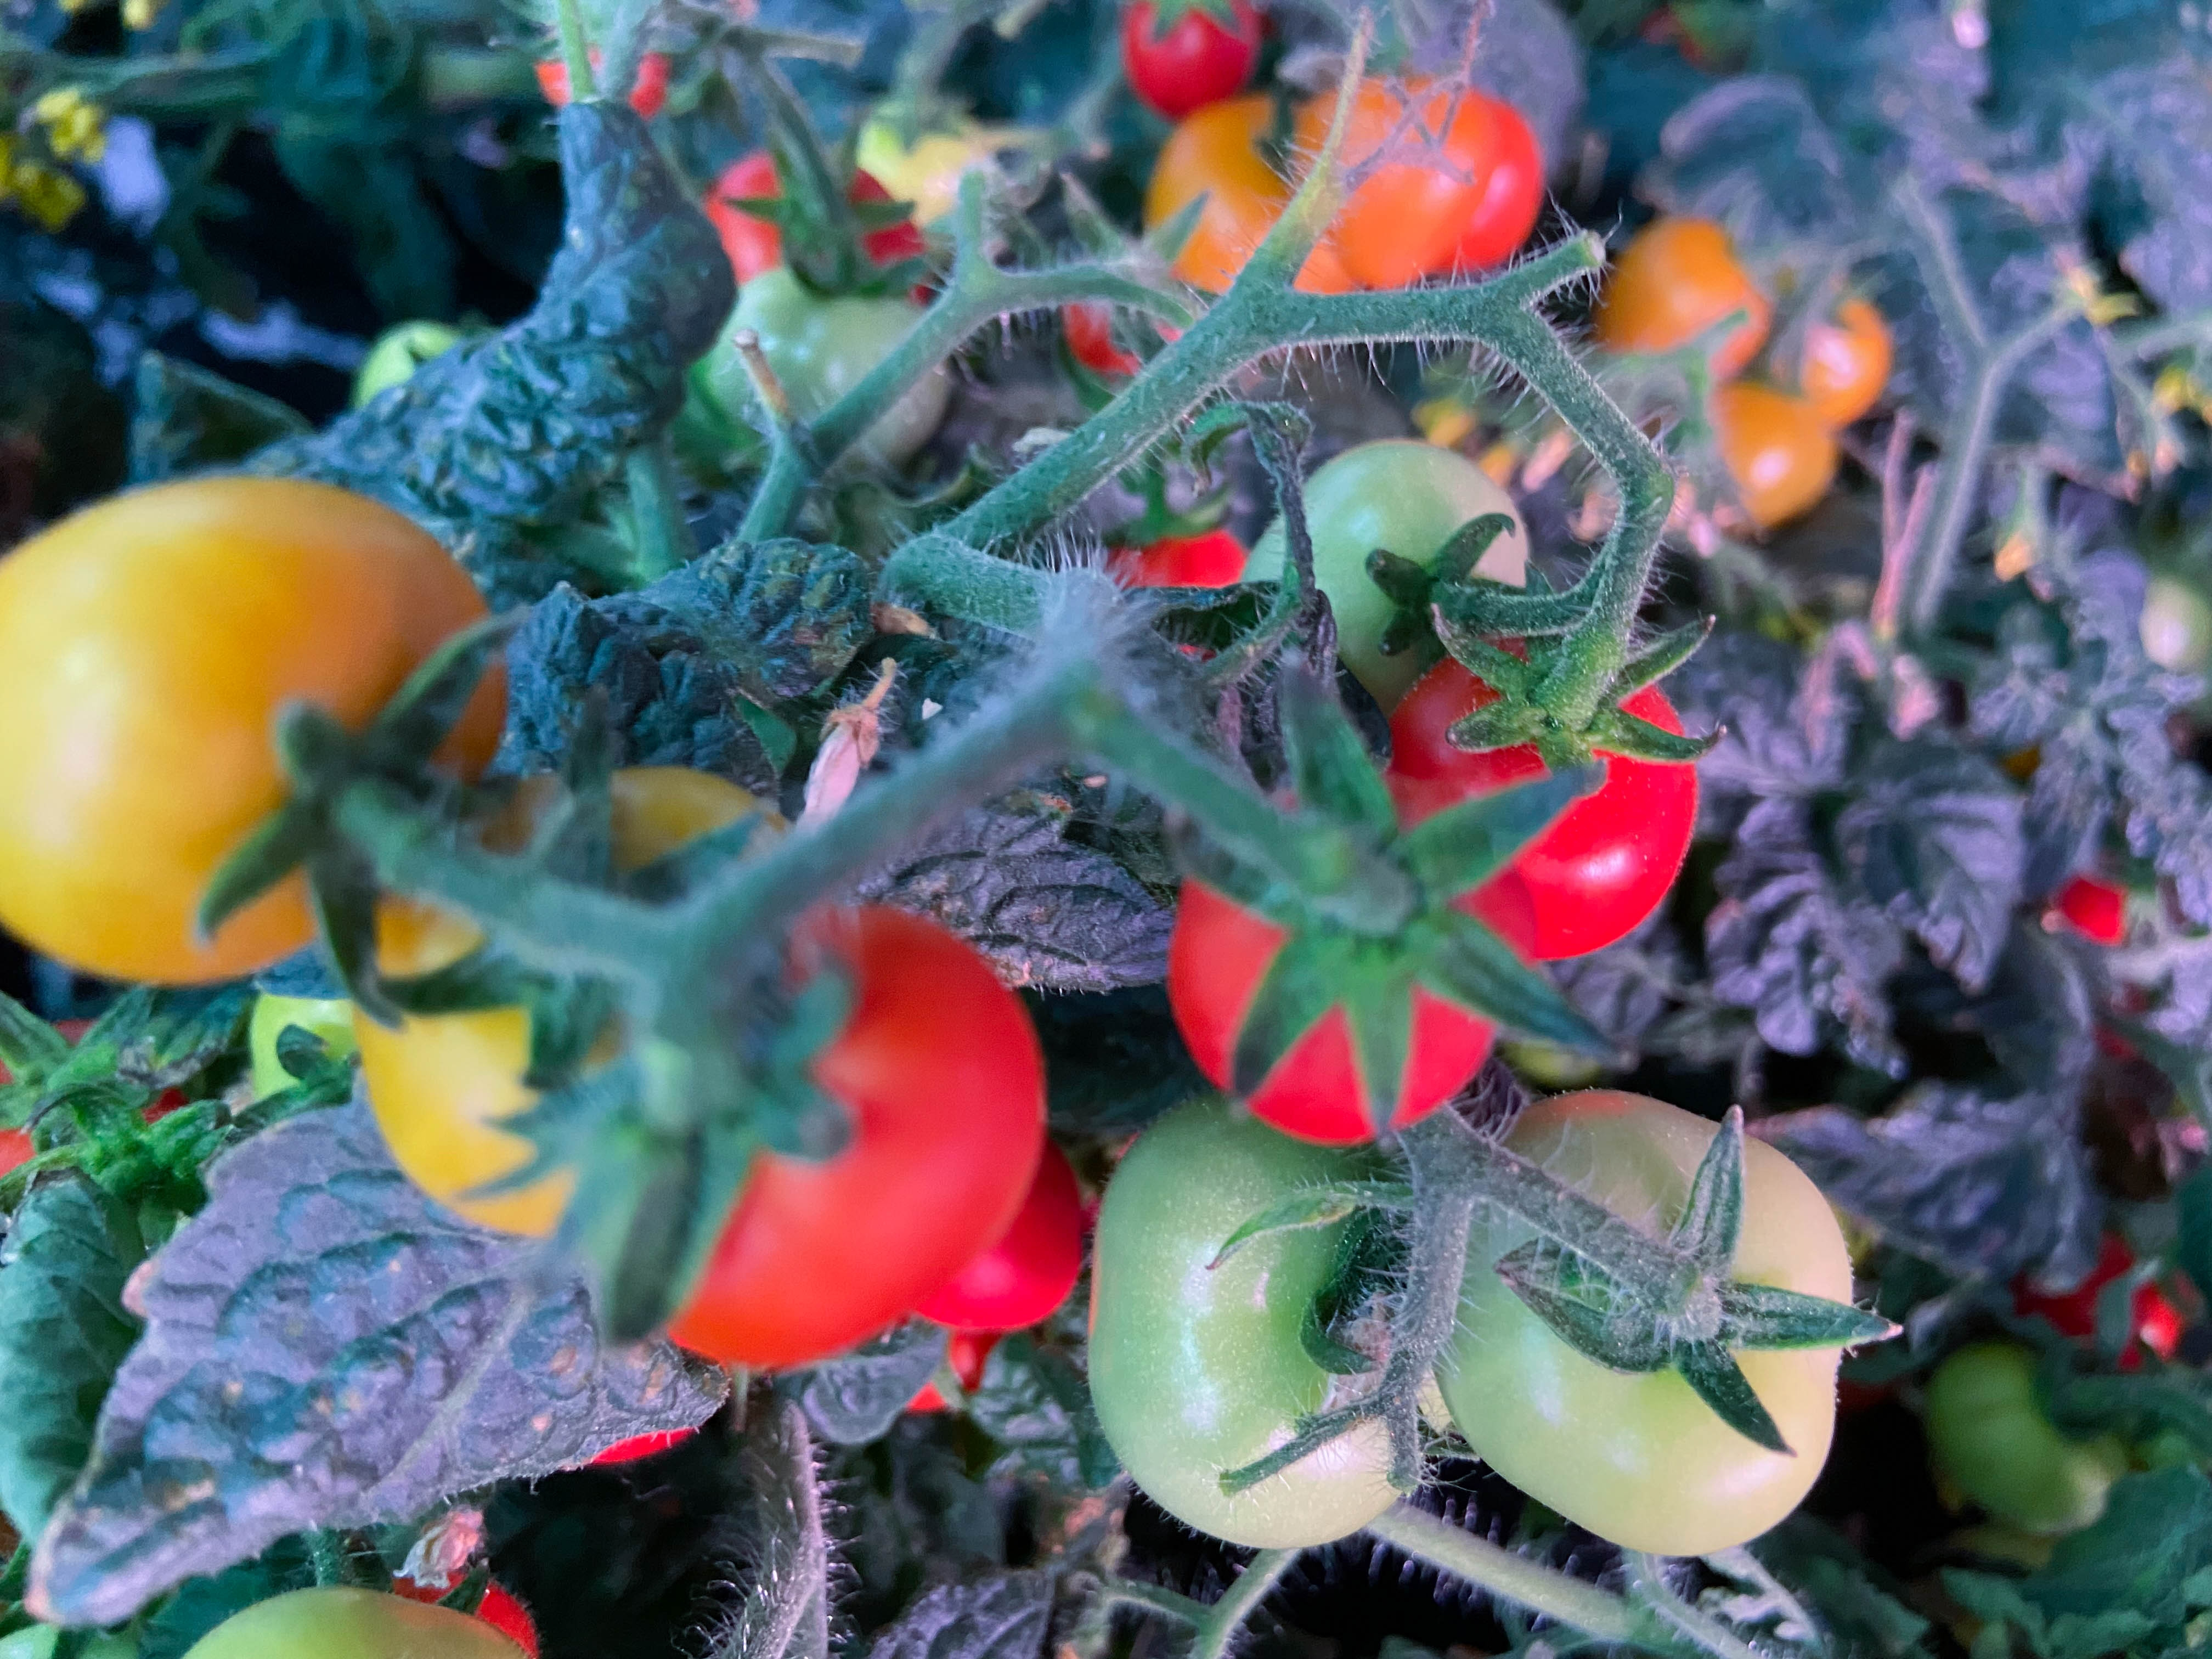green: (1430, 1091, 1858, 1568), (1082, 1101, 1439, 1558), (1245, 429, 1531, 708), (702, 268, 951, 465), (1926, 1340, 2130, 1535), (129, 1582, 575, 1659), (359, 312, 474, 408)
red: (3, 471, 505, 990), (571, 870, 1050, 1375), (355, 765, 792, 1269), (1162, 807, 1512, 1147), (1378, 641, 1696, 972), (1312, 70, 1547, 288), (1143, 94, 1360, 319), (700, 143, 925, 305), (0, 1002, 193, 1187), (913, 1155, 1092, 1338), (1606, 204, 1785, 385), (1672, 376, 1839, 533), (2031, 857, 2181, 1007), (2027, 1222, 2168, 1363), (1054, 249, 1198, 385), (855, 1321, 1012, 1443), (1768, 286, 1890, 427), (1118, 2, 1263, 115), (857, 101, 975, 232), (404, 1523, 524, 1643), (524, 26, 672, 124), (590, 1382, 700, 1492)
